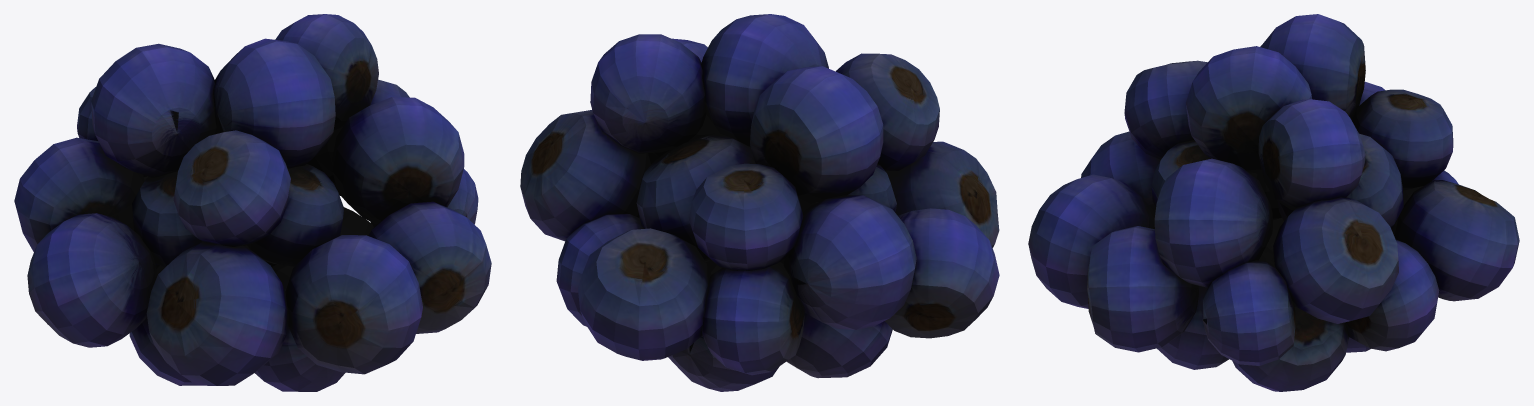
Rendered from A_FruitMyrtillePoignee.fbx.
3 views of the same model, side by side, from view 1: azimuth 30°, elevation 25°; view 2: azimuth 150°, elevation 25°; view 3: azimuth 270°, elevation 25° (orthographic). The views are drawn at different scales.
Parts seen in each view (by area): view 1: A_FruitMyrtillePoignee_LD; view 2: A_FruitMyrtillePoignee_LD; view 3: A_FruitMyrtillePoignee_LD.
Boxes of the visible parts, x1,y1,x2,y2 form: A_FruitMyrtillePoignee_LD: [14, 14, 491, 391]; A_FruitMyrtillePoignee_LD: [520, 14, 999, 391]; A_FruitMyrtillePoignee_LD: [1028, 14, 1519, 391].
Size of the model in its own units: 24.03 by 17.35 by 24.72.
1 material, 1 textured.
